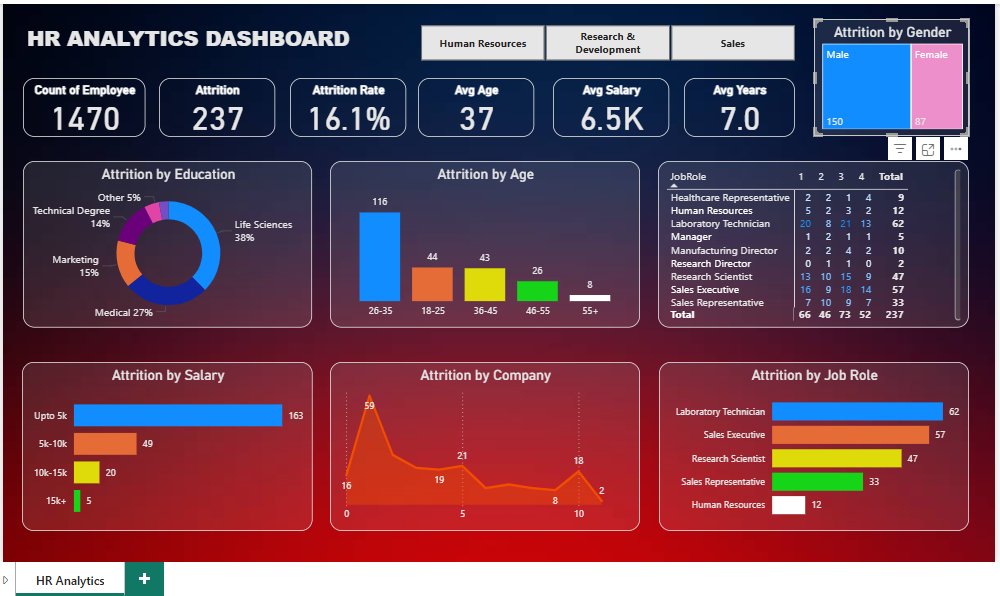

This screenshot's page, from the dashboard's own definition file:
{"tool":"powerbi","page":{"name":"Page 1","canvas":[1280,720],"ordinal":0},"visuals":[{"type":"card","title":"Count of Employee","fields":{"Values":["Count(HR_Analytics.EmpID)"]},"box":[26.4,95.1,158.5,75.7],"z":0},{"type":"card","title":"Attrition","fields":{"Values":["Sum(HR_Analytics.AttritionCount)"]},"box":[200.7,95.1,149.7,75.7],"z":1000},{"type":"card","title":"Attrition Rate","fields":{"Values":["HR_Analytics.AttritionRate"]},"box":[369.7,95.1,149.7,75.7],"z":2000},{"type":"card","title":"Avg Age","fields":{"Values":["Avg(HR_Analytics.Age)"]},"box":[535.2,95.1,149.7,75.7],"z":3000},{"type":"card","title":"Avg Years","fields":{"Values":["Avg(HR_Analytics.YearsAtCompany)"]},"box":[878.6,95.1,142.6,75.7],"z":4000},{"type":"card","title":"Avg Salary","fields":{"Values":["Avg(HR_Analytics.MonthlyIncome)"]},"box":[709.5,95.1,149.7,75.7],"z":5000},{"type":"donutChart","title":"Attrition by Education","fields":{"Category":["HR_Analytics.EducationField"],"Y":["Sum(HR_Analytics.AttritionCount)"]},"box":[26.4,202.5,373.3,214.8],"z":6000},{"type":"columnChart","title":"Attrition by Age","fields":{"Category":["HR_Analytics.AgeGroup"],"Y":["Sum(HR_Analytics.AttritionCount)"]},"box":[422.6,202.5,399.7,214.8],"z":7000},{"type":"pivotTable","fields":{"Rows":["HR_Analytics.JobRole"],"Columns":["HR_Analytics.JobSatisfaction"],"Values":["Sum(HR_Analytics.AttritionCount)"]},"box":[845.1,202.5,401.4,214.8],"z":8000},{"type":"barChart","title":"Attrition by Salary","fields":{"Category":["HR_Analytics.SalarySlab"],"Y":["Sum(HR_Analytics.AttritionCount)"]},"box":[24.6,461.3,375,218.3],"z":9000},{"type":"barChart","title":"Attrition by Job Role","fields":{"Y":["Sum(HR_Analytics.AttritionCount)"],"Category":["HR_Analytics.JobRole"]},"box":[846.9,461.3,399.7,218.3],"z":10000},{"type":"areaChart","title":"Attrition by Company","fields":{"Category":["HR_Analytics.YearsAtCompany"],"Y":["Sum(HR_Analytics.AttritionCount)"]},"box":[422.6,461.3,399.7,218.3],"z":11000},{"type":"treemap","title":"Attrition by Gender","fields":{"Values":["Sum(HR_Analytics.AttritionCount)"],"Group":["HR_Analytics.Gender"]},"box":[1045.8,19.4,200.7,151.4],"z":12000},{"type":"slicer","title":"Departments","fields":{"Values":["HR_Analytics.Department"]},"box":[513.4,20,532,58.6],"z":13000},{"type":"textbox","box":[25.7,20,463.4,60.1],"z":14000}]}

Visuals, with their boxes on the page's 1280x720 design canvas (x1, y1, x2, y2). These are canvas units, not pixel positions in the 1000x596 screenshot, which may show the page scaled, cropped or inside an application window:
"Count of Employee" card: left=26, top=95, right=185, bottom=171
"Attrition" card: left=201, top=95, right=350, bottom=171
"Attrition Rate" card: left=370, top=95, right=519, bottom=171
"Avg Age" card: left=535, top=95, right=685, bottom=171
"Avg Years" card: left=879, top=95, right=1021, bottom=171
"Avg Salary" card: left=710, top=95, right=859, bottom=171
"Attrition by Education" donutChart: left=26, top=202, right=400, bottom=417
"Attrition by Age" columnChart: left=423, top=202, right=822, bottom=417
pivotTable - HR_Analytics.JobRole x HR_Analytics.JobSatisfaction: left=845, top=202, right=1246, bottom=417
"Attrition by Salary" barChart: left=25, top=461, right=400, bottom=680
"Attrition by Job Role" barChart: left=847, top=461, right=1247, bottom=680
"Attrition by Company" areaChart: left=423, top=461, right=822, bottom=680
"Attrition by Gender" treemap: left=1046, top=19, right=1246, bottom=171
"Departments" slicer: left=513, top=20, right=1045, bottom=79
textbox: left=26, top=20, right=489, bottom=80
